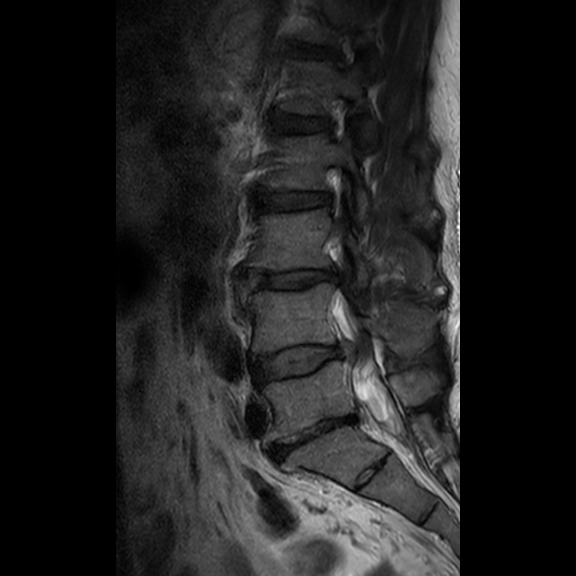LFS0: (315, 84, 358, 150)
